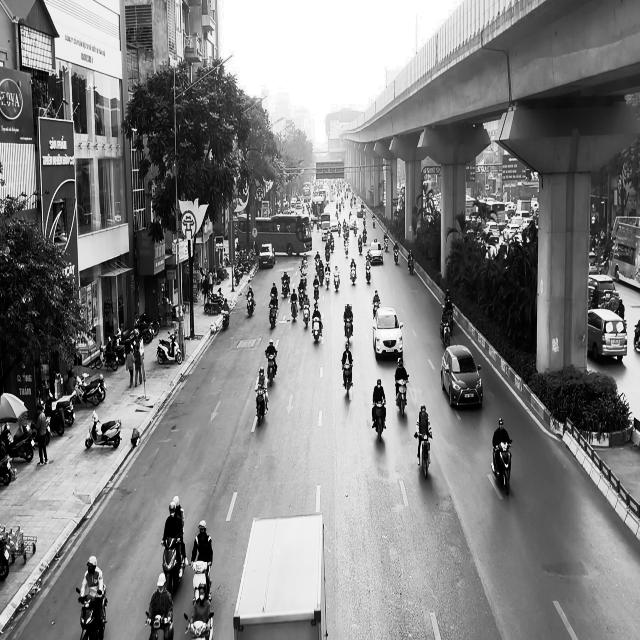bus: (235, 213, 313, 256), (608, 214, 640, 288)
car: (440, 344, 483, 408), (587, 308, 627, 363), (372, 306, 403, 360), (258, 242, 276, 269), (369, 241, 383, 264)
motorbike: (76, 586, 107, 639), (85, 409, 122, 448), (161, 536, 185, 594), (491, 439, 512, 495), (190, 560, 212, 604), (156, 330, 183, 365), (414, 428, 432, 478), (184, 611, 213, 639), (145, 611, 173, 639), (372, 401, 386, 442), (255, 385, 268, 426), (395, 376, 408, 417), (341, 360, 353, 398), (265, 351, 277, 386), (311, 314, 324, 344), (439, 317, 451, 346), (343, 316, 353, 348), (268, 297, 278, 328), (246, 292, 255, 317), (281, 278, 290, 298), (290, 298, 297, 322), (364, 260, 371, 283), (372, 300, 380, 319), (350, 264, 357, 284), (333, 273, 340, 291), (393, 247, 399, 264)
